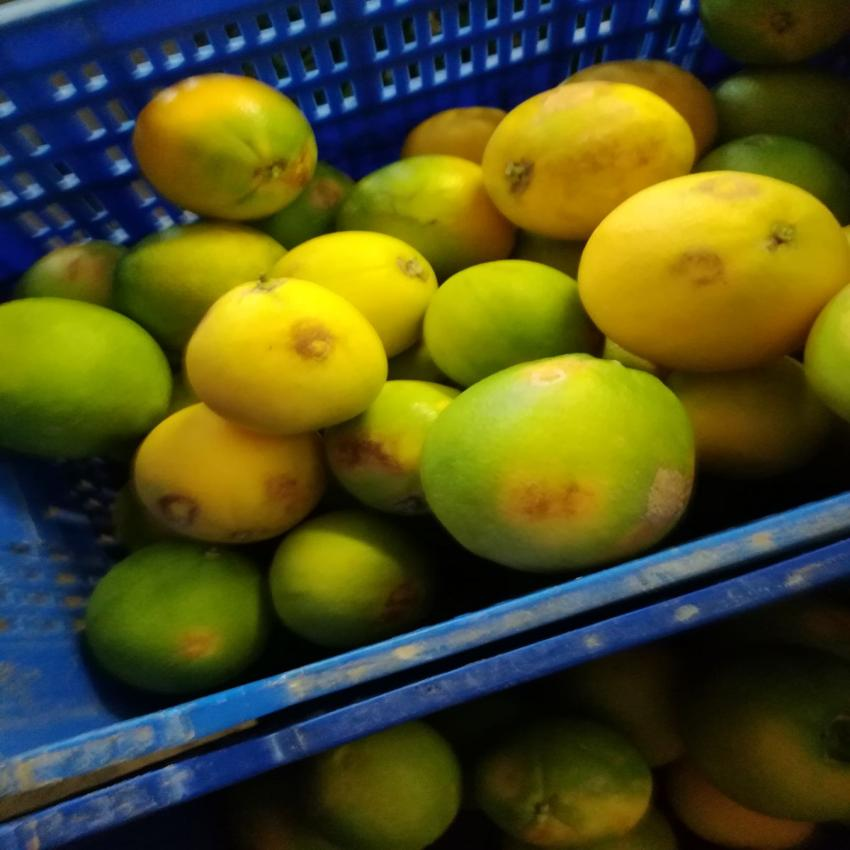Mal estado: (415, 345, 706, 563), (560, 160, 841, 373), (119, 65, 336, 226), (493, 80, 697, 239), (189, 274, 386, 435), (141, 403, 336, 556)
